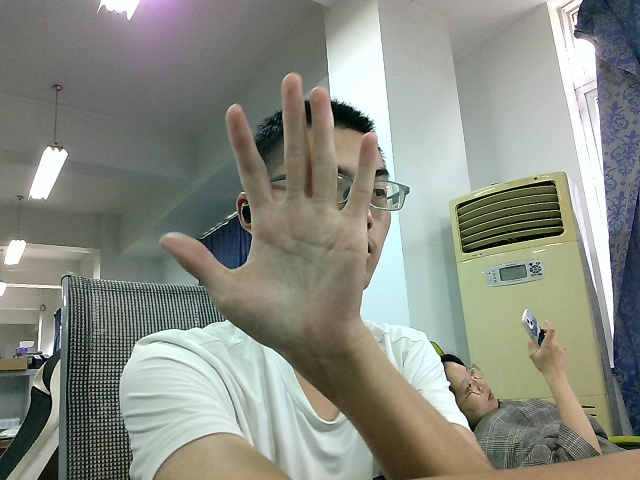paper: (161, 68, 380, 368)
